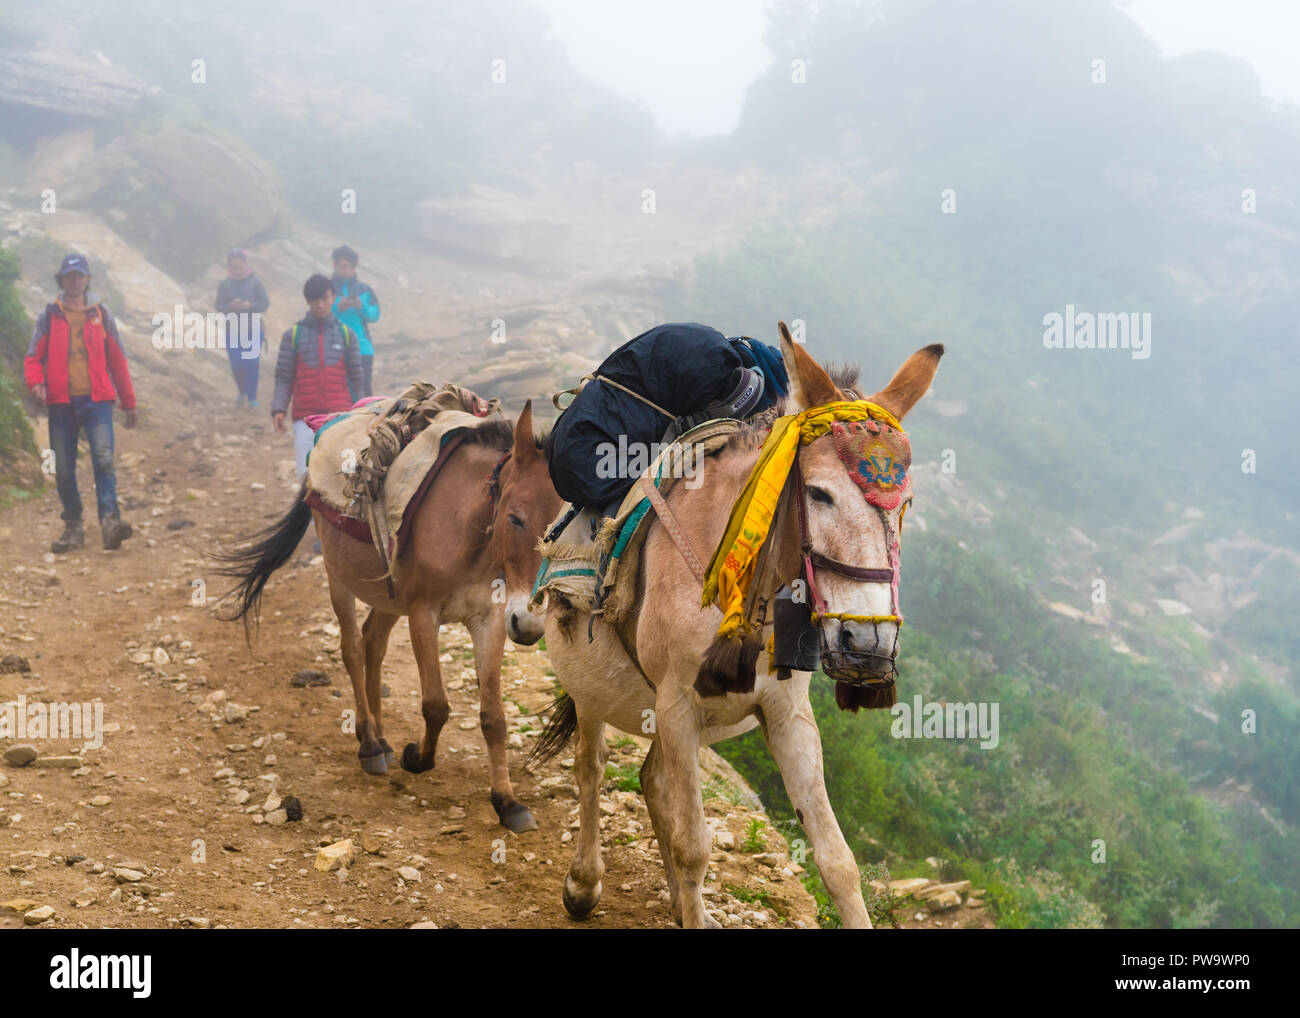equine: (512, 301, 1001, 928), (219, 370, 590, 836)
human: (25, 223, 140, 570), (266, 263, 372, 478), (190, 235, 277, 425), (310, 233, 399, 392)
